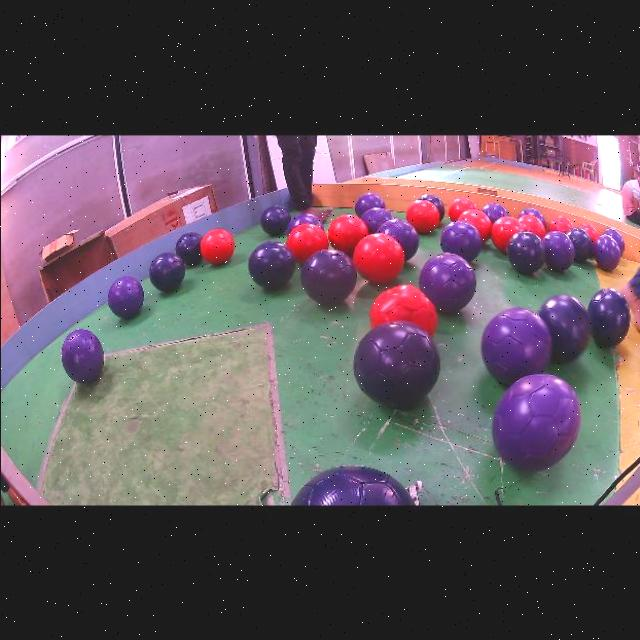B: (352, 319, 439, 407), (290, 464, 421, 504), (537, 293, 591, 360), (300, 248, 356, 303), (587, 287, 630, 346), (248, 240, 294, 288), (506, 229, 545, 272), (149, 251, 185, 290), (565, 225, 591, 261), (259, 204, 290, 234), (174, 230, 201, 263), (418, 193, 445, 219)
P: (491, 373, 580, 470), (481, 306, 551, 384), (419, 252, 475, 312), (60, 328, 104, 380), (376, 217, 419, 260), (439, 218, 482, 260), (106, 275, 144, 317), (541, 229, 574, 270), (592, 233, 619, 269), (360, 206, 394, 232), (353, 190, 384, 216), (286, 211, 324, 232), (481, 202, 508, 222), (603, 226, 623, 252), (518, 207, 546, 225)
R: (369, 283, 437, 334), (352, 231, 403, 281), (285, 221, 327, 263), (326, 213, 367, 253), (199, 227, 234, 262), (490, 215, 522, 252), (457, 207, 491, 241), (405, 198, 438, 233), (448, 195, 477, 220), (518, 212, 545, 236), (547, 215, 573, 231), (580, 222, 599, 241)
